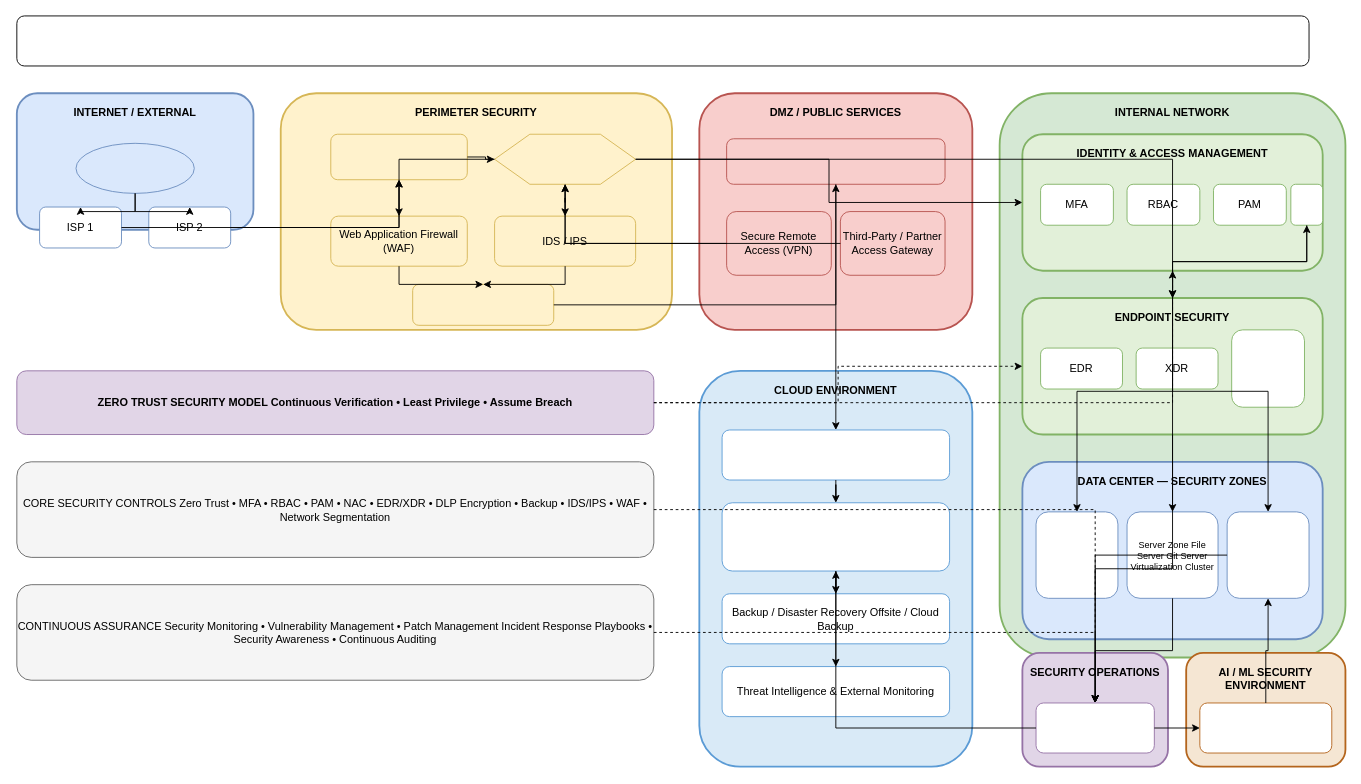
The diagram is 1361 pixels wide and 784 high, and some of its shapes have lost their labels. The shapes that lost their labels are listed below. From the top down, each one's centre as x and y in pixels, then its label:
At point 662,40: "VORTEX SECURE — Enterprise Hybrid Security Architecture".
At point 134,167: "Internet".
At point 398,156: "DDoS Protection".
At point 565,158: "Next-Generation Firewall (NGFW)".
At point 835,161: "Public Web / API Services".
At point 1306,204: "NAC".
At point 483,304: "Load Balancer".
At point 1267,368: "Corporate Endpoints Laptops • Workstations Developer Devices • Mobile".
At point 835,454: "Cloud Applications Microsoft 365".
At point 835,536: "Cloud Security Controls IAM • MFA • Logging Encryption • DLP".
At point 1076,554: "Identity Zone Domain Controllers Active Directory".
At point 1267,554: "Database Zone Database Server Sensitive Data".
At point 1094,727: "SOC / SIEM SOAR • Threat Intel Threat Hunting • IR".
At point 1265,727: "AI Compute Cluster Foundation Models Fine-tuned Models AI Agents • RAG".
